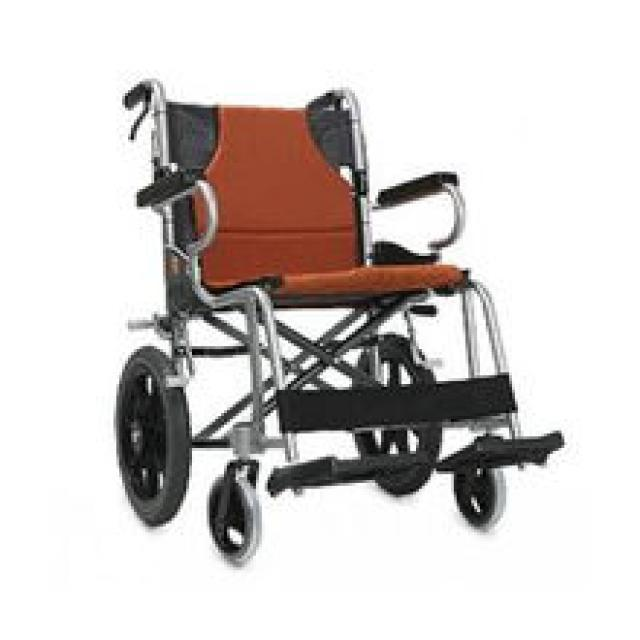wheelchair: (98, 75, 564, 568)
